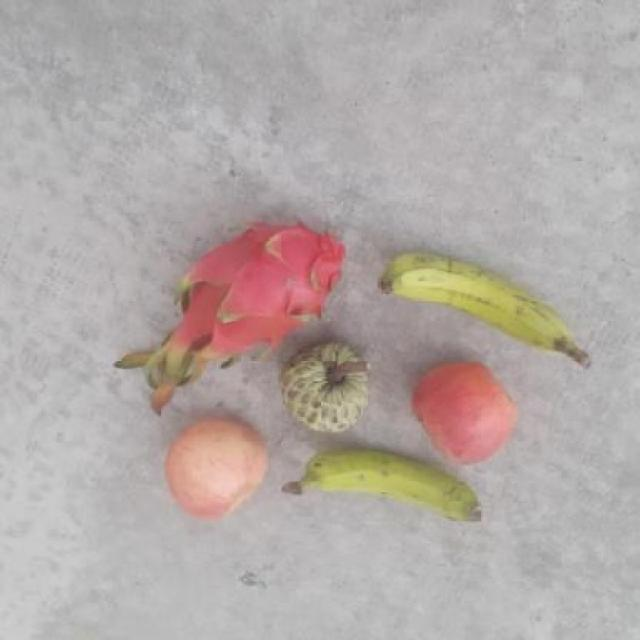apple: (410, 358, 522, 469), (164, 418, 271, 524)
banana: (373, 248, 578, 372), (301, 445, 485, 540)
dragon fruit: (174, 215, 348, 358)
sugar apple: (280, 338, 378, 434)
